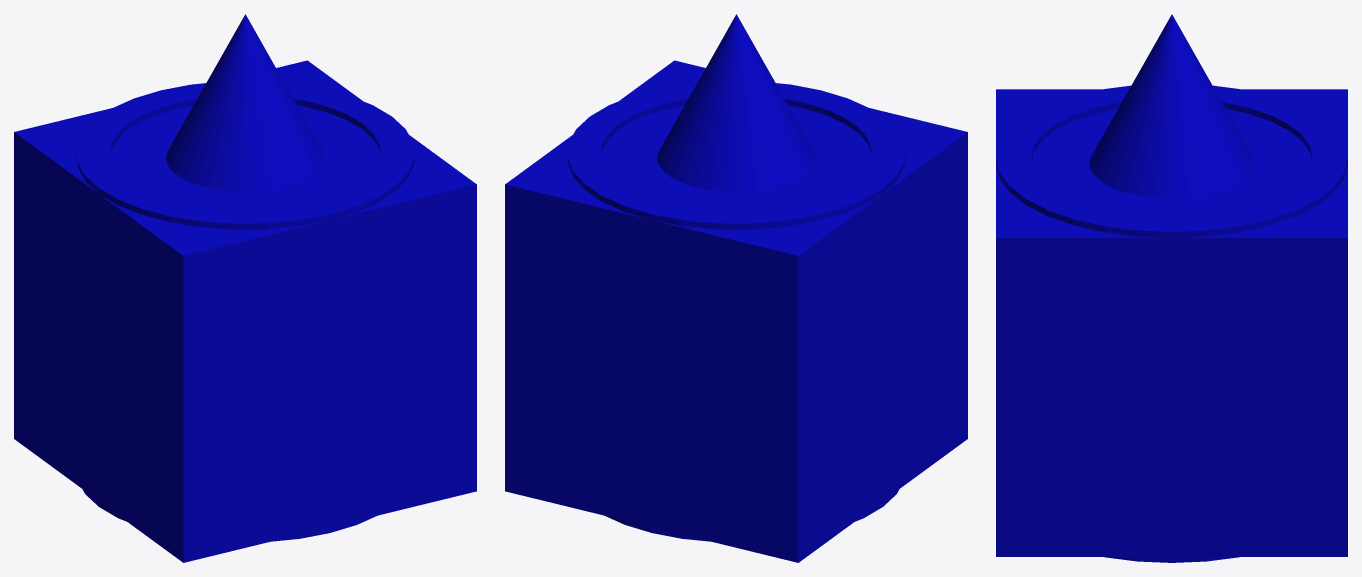
Rendered from hollow_cylinder.obj.
3 renders of one model, left to right at view 1: azimuth 30°, elevation 25°; view 2: azimuth 150°, elevation 25°; view 3: azimuth 270°, elevation 25°, orthographic. The views are drawn at different scales.
Parts seen in each view (by area): view 1: cube_Cube.001, hollow_cylinder_Cylinder.001, cone_Cone, Cylinder; view 2: cube_Cube.001, hollow_cylinder_Cylinder.001, cone_Cone, Cylinder; view 3: cube_Cube.001, hollow_cylinder_Cylinder.001, cone_Cone, Cylinder.
Boxes of the visible parts, x1,y1,x2,y2 form: cube_Cube.001: [14, 60, 476, 562]; hollow_cylinder_Cylinder.001: [76, 83, 414, 541]; cone_Cone: [166, 14, 324, 191]; Cylinder: [111, 106, 380, 209]; cube_Cube.001: [505, 60, 967, 562]; hollow_cylinder_Cylinder.001: [567, 83, 905, 541]; cone_Cone: [657, 14, 815, 191]; Cylinder: [602, 106, 819, 209]; cube_Cube.001: [996, 89, 1347, 556]; hollow_cylinder_Cylinder.001: [996, 85, 1347, 562]; cone_Cone: [1089, 14, 1254, 198]; Cylinder: [1032, 109, 1311, 216].
Bounding box in the file's own units: 2 × 2.98 × 2.
